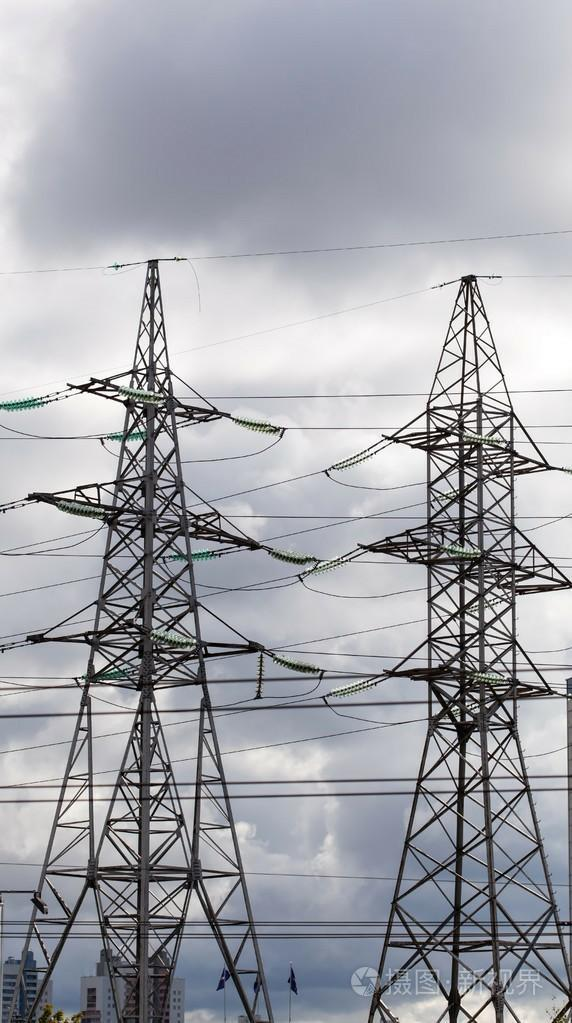power_tower: (21, 223, 277, 1023), (381, 268, 571, 1023)
